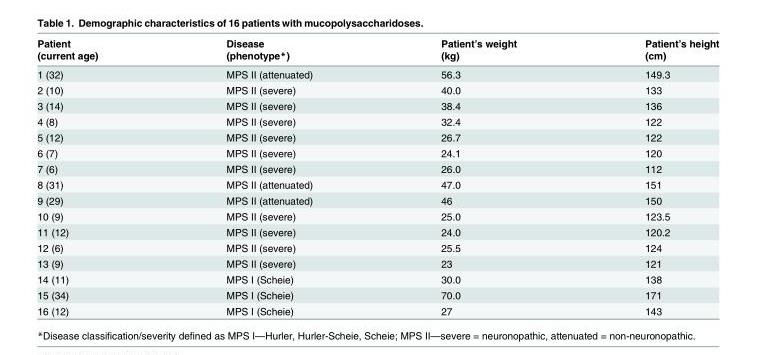table: (36, 36, 718, 316)
table column: (161, 36, 376, 316), (376, 36, 580, 316), (580, 36, 718, 316), (36, 36, 161, 316)
table column header: (36, 36, 718, 64)
table row: (36, 64, 718, 81), (36, 48, 718, 64), (36, 81, 718, 97), (36, 97, 718, 113), (36, 113, 718, 129), (36, 144, 718, 160), (36, 160, 718, 176), (36, 176, 718, 192), (36, 207, 718, 223), (36, 223, 718, 239), (36, 239, 718, 255), (36, 255, 718, 271), (36, 286, 718, 302), (36, 129, 718, 144), (36, 192, 718, 207), (36, 271, 718, 286), (36, 302, 718, 316), (36, 36, 718, 48)
table spanning cell: (161, 36, 376, 64), (376, 36, 580, 64), (580, 36, 718, 64), (36, 36, 161, 64)
